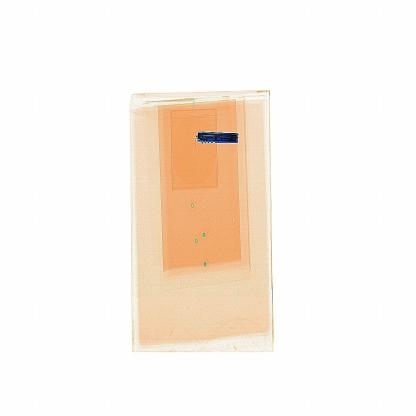scissors: (197, 121, 249, 156)
